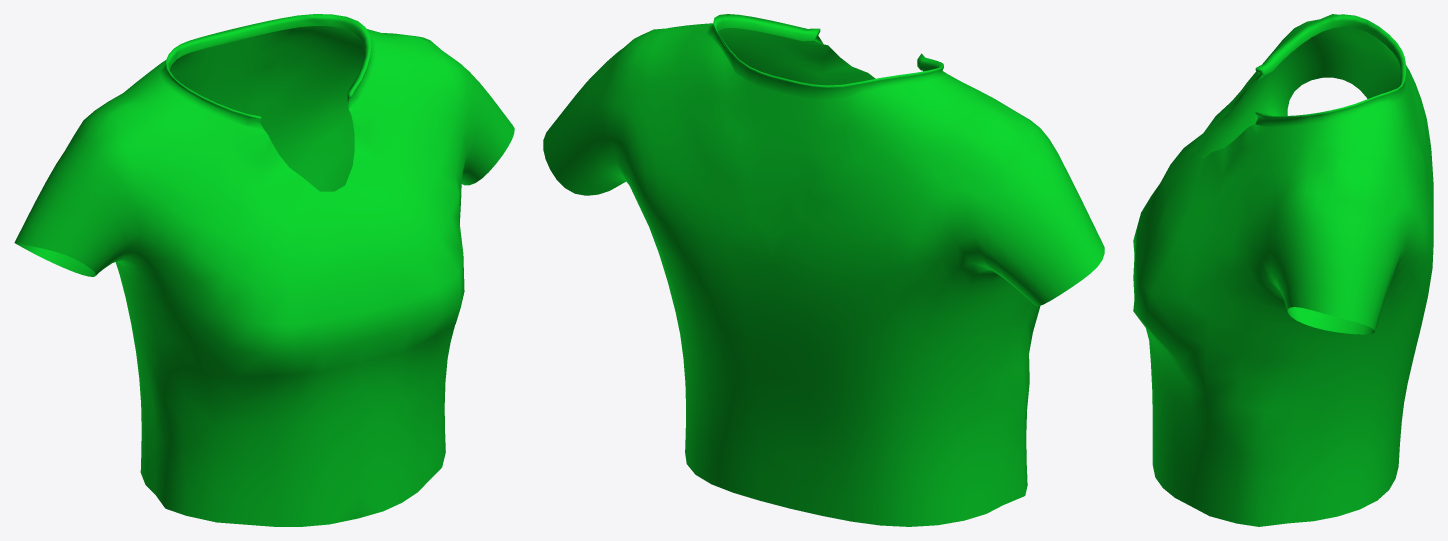
The model's file is Greenshirt.fbx.
The picture shows the model from 3 angles, left to right: view 1: azimuth 30°, elevation 25°; view 2: azimuth 150°, elevation 25°; view 3: azimuth 270°, elevation 25°; orthographic projection. The views are drawn at different scales.
Parts seen in each view (by area): view 1: body_low.001; view 2: body_low.001; view 3: body_low.001.
Boxes of the visible parts, box(x1,y1,x2,y2) form: body_low.001: box(14, 14, 514, 526); body_low.001: box(543, 14, 1104, 526); body_low.001: box(1133, 14, 1433, 526).
Bounding box in the file's own units: 63.14 × 49.86 × 33.54.
